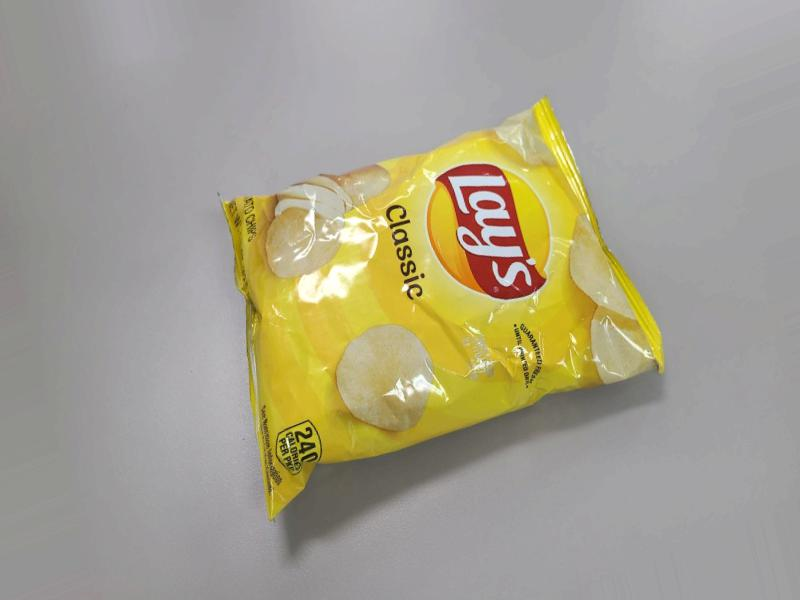lays: (321, 114, 694, 521)
